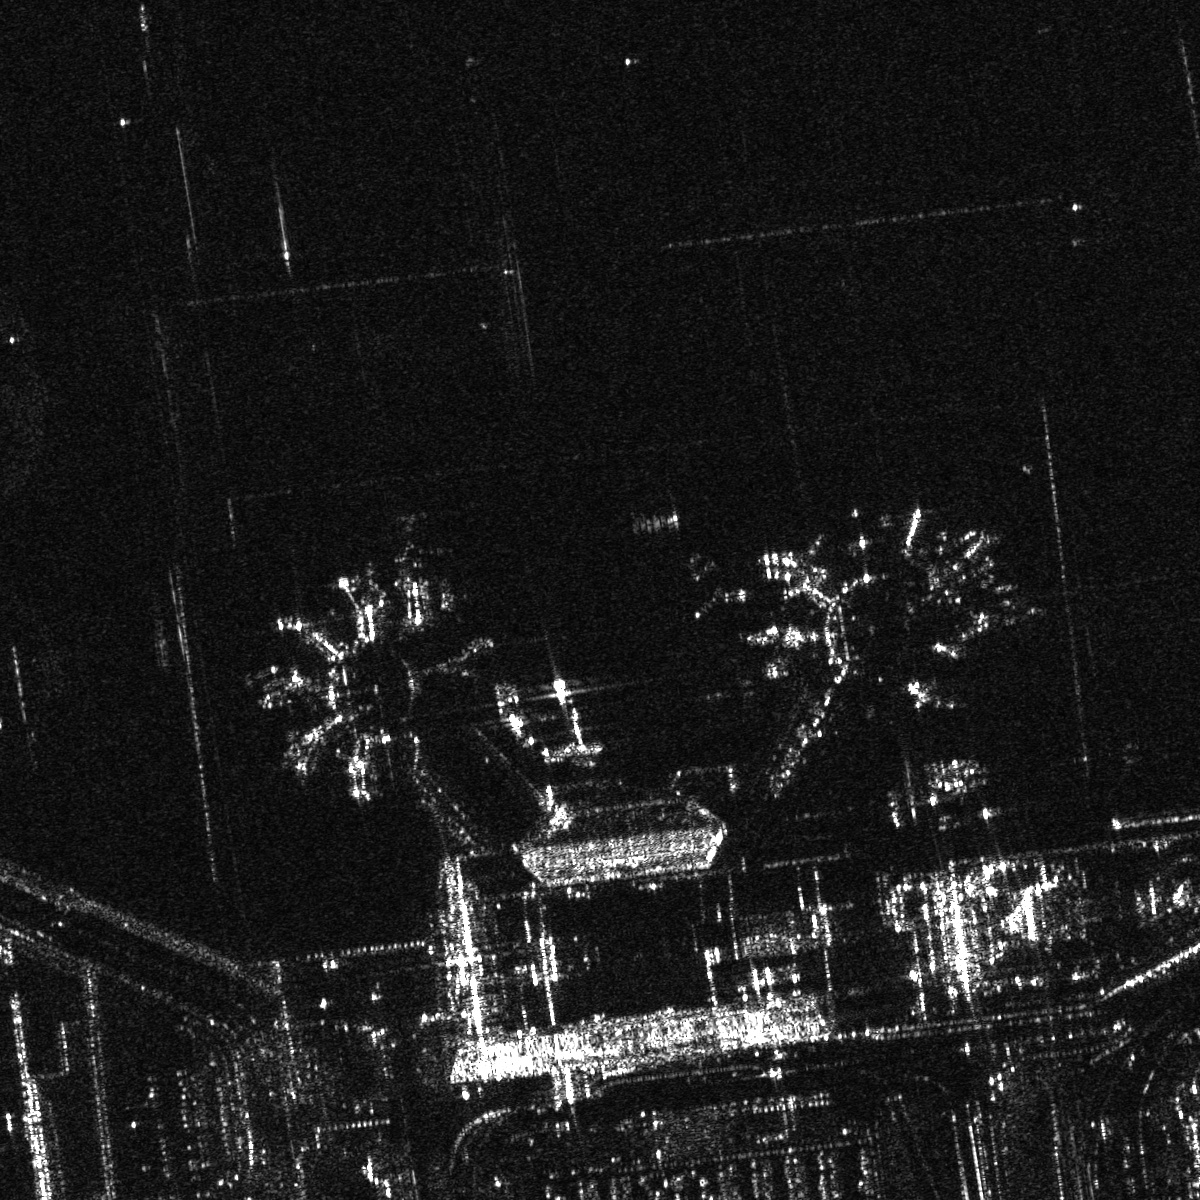A220: (693, 555, 751, 620), (385, 514, 440, 571), (712, 669, 757, 710)
